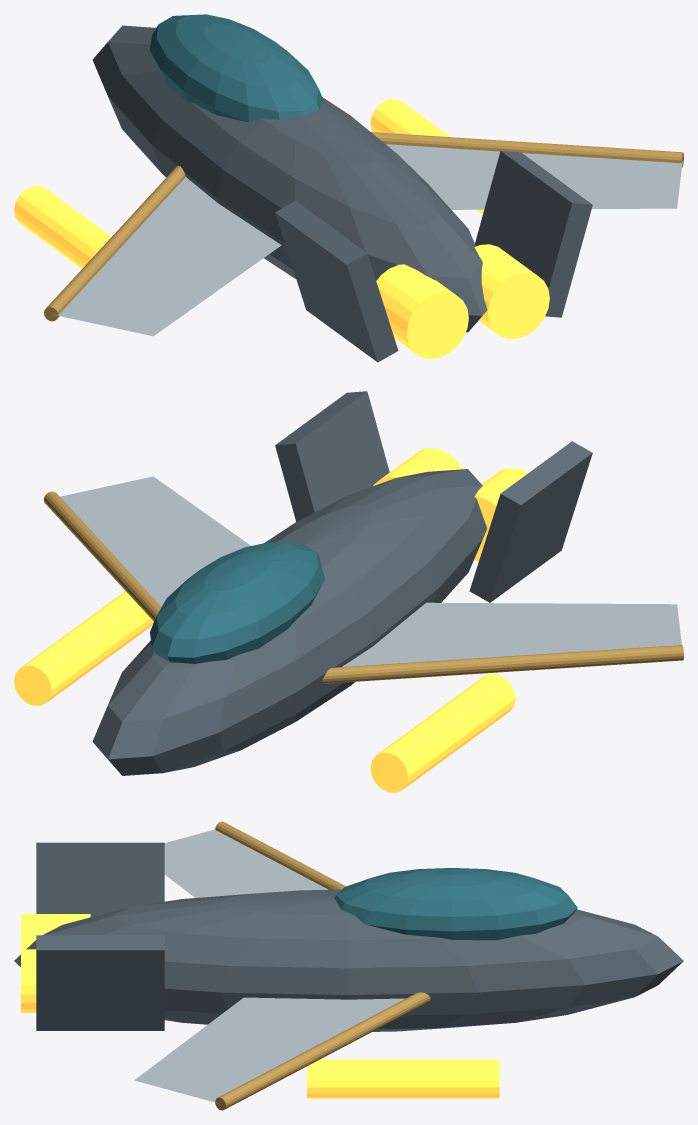
File: loiter-drone.glb
3 views of the same model, one above another, from view 1: azimuth 30°, elevation 25°; view 2: azimuth 150°, elevation 25°; view 3: azimuth 270°, elevation 25° (orthographic). The views are drawn at different scales.
Parts seen in each view (by area): view 1: streamlined fuselage, swept main wing, cockpit, tail stabilizer.001, swept main wing.001, tail stabilizer, exhaust, exhaust.001, underwing missile, wing edge accent.001, wing edge accent, underwing missile.001; view 2: streamlined fuselage, swept main wing, cockpit, swept main wing.001, tail stabilizer, tail stabilizer.001, underwing missile, underwing missile.001, wing edge accent, wing edge accent.001, exhaust, exhaust.001; view 3: streamlined fuselage, cockpit, swept main wing.001, tail stabilizer.001, tail stabilizer, underwing missile.001, swept main wing, wing edge accent.001, wing edge accent, exhaust, exhaust.001.
Part boxes in pixels (x1=…): streamlined fuselage: x1=92, y1=25, x2=487, y2=332; swept main wing: x1=54, y1=177, x2=281, y2=336; cockpit: x1=150, y1=14, x2=324, y2=122; tail stabilizer.001: x1=475, y1=150, x2=592, y2=317; swept main wing.001: x1=385, y1=144, x2=682, y2=209; tail stabilizer: x1=275, y1=201, x2=398, y2=362; exhaust: x1=376, y1=264, x2=468, y2=358; exhaust.001: x1=474, y1=244, x2=549, y2=339; underwing missile: x1=14, y1=186, x2=111, y2=268; wing edge accent.001: x1=371, y1=132, x2=683, y2=167; wing edge accent: x1=44, y1=165, x2=185, y2=321; underwing missile.001: x1=370, y1=99, x2=483, y2=214; streamlined fuselage: x1=92, y1=469, x2=487, y2=775; swept main wing: x1=342, y1=602, x2=681, y2=666; cockpit: x1=150, y1=542, x2=324, y2=663; swept main wing.001: x1=60, y1=476, x2=250, y2=606; tail stabilizer: x1=469, y1=441, x2=592, y2=602; tail stabilizer.001: x1=275, y1=391, x2=389, y2=521; underwing missile: x1=370, y1=674, x2=515, y2=792; underwing missile.001: x1=14, y1=591, x2=153, y2=705; wing edge accent: x1=322, y1=645, x2=683, y2=683; wing edge accent.001: x1=44, y1=491, x2=161, y2=621; exhaust: x1=474, y1=468, x2=528, y2=561; exhaust.001: x1=373, y1=448, x2=462, y2=485; streamlined fuselage: x1=14, y1=889, x2=683, y2=1031; cockpit: x1=334, y1=868, x2=577, y2=940; swept main wing.001: x1=134, y1=997, x2=404, y2=1103; tail stabilizer.001: x1=36, y1=935, x2=164, y2=1030; tail stabilizer: x1=36, y1=842, x2=164, y2=916; underwing missile.001: x1=307, y1=1059, x2=499, y2=1098; swept main wing: x1=164, y1=829, x2=327, y2=897; wing edge accent.001: x1=215, y1=992, x2=430, y2=1110; wing edge accent: x1=215, y1=821, x2=345, y2=889; exhaust: x1=21, y1=914, x2=90, y2=949; exhaust.001: x1=21, y1=949, x2=36, y2=1012.
Size of the model in its own units: 2.37 by 0.59 by 2.4.
